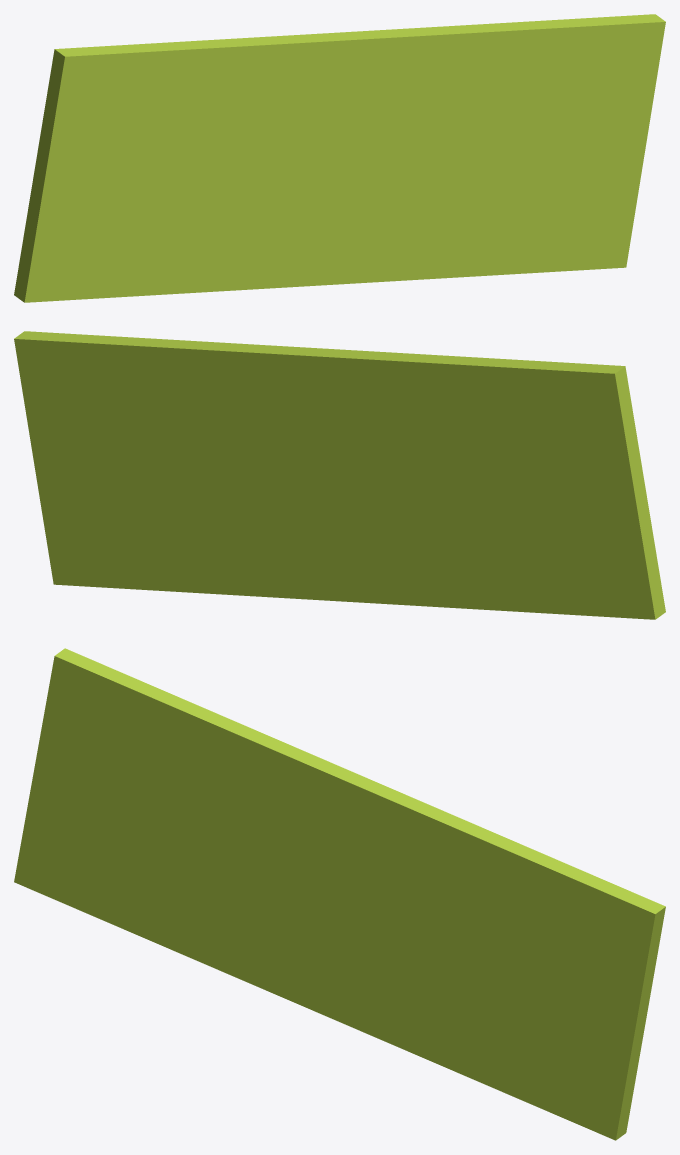
3 views of the same model, one above another, from view 1: azimuth 30°, elevation 25°; view 2: azimuth 150°, elevation 25°; view 3: azimuth 330°, elevation 25° (orthographic).
Parts seen in each view (by area): view 1: osm-way27917482-F3; view 2: osm-way27917482-F3; view 3: osm-way27917482-F3.
Part boxes in pixels (bbox=[...]): osm-way27917482-F3: bbox=[14, 14, 665, 302]; osm-way27917482-F3: bbox=[14, 331, 665, 619]; osm-way27917482-F3: bbox=[14, 648, 665, 1140].
Size of the model in its own units: 5.28 by 2.74 by 0.15.
